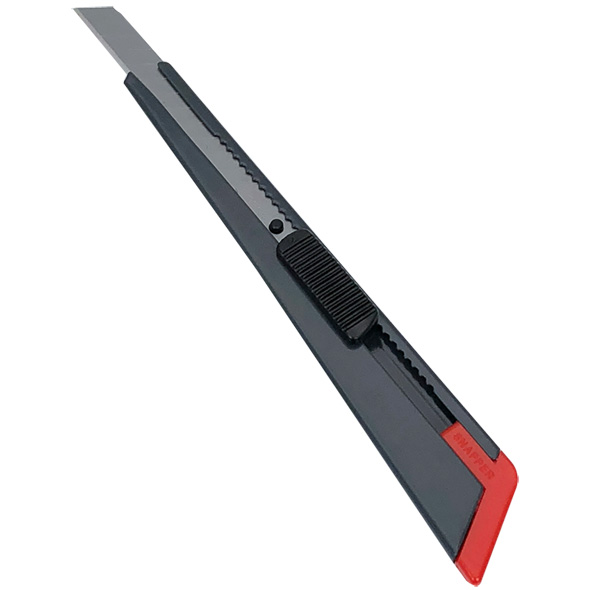knife: (72, 6, 525, 589)
